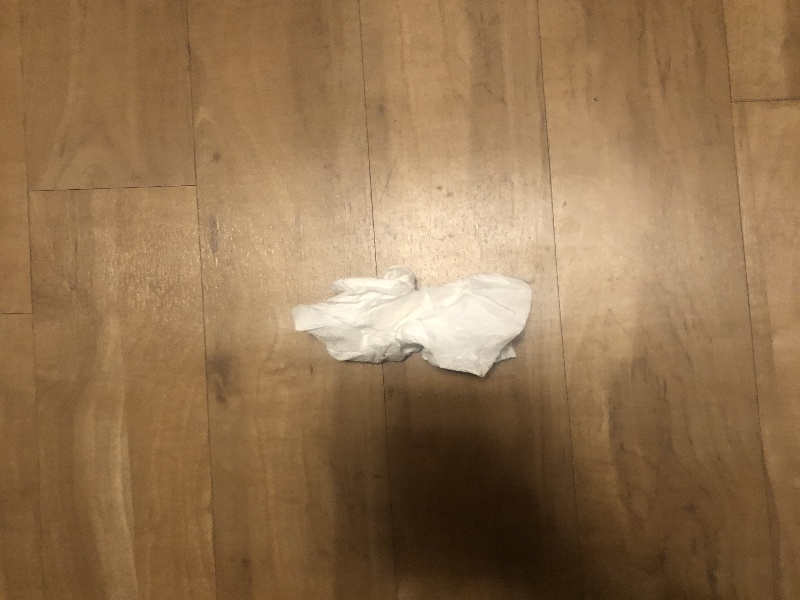paper: (285, 256, 542, 379)
